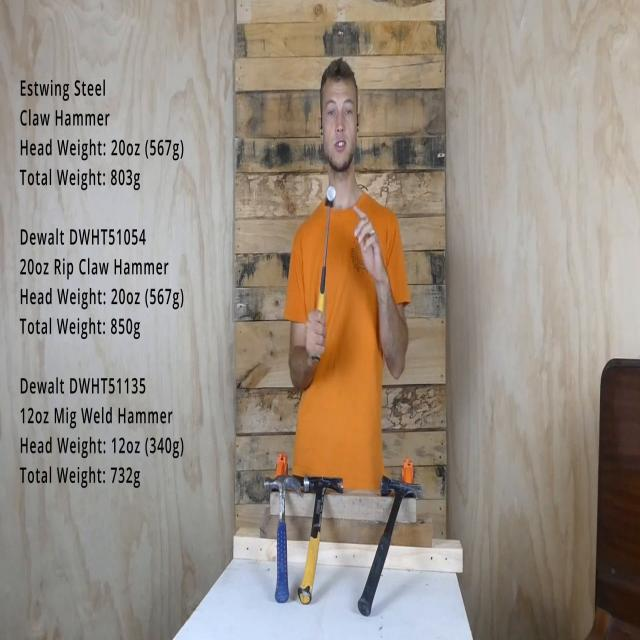hammer: (358, 473, 424, 620), (297, 471, 352, 610), (261, 472, 303, 607), (310, 184, 342, 341)
